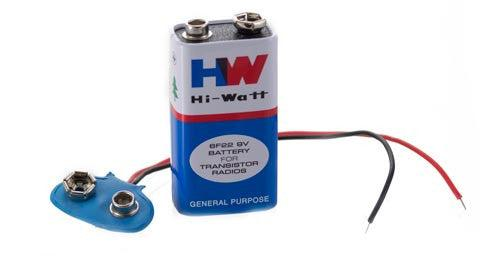9V Battery: (167, 12, 278, 217)
